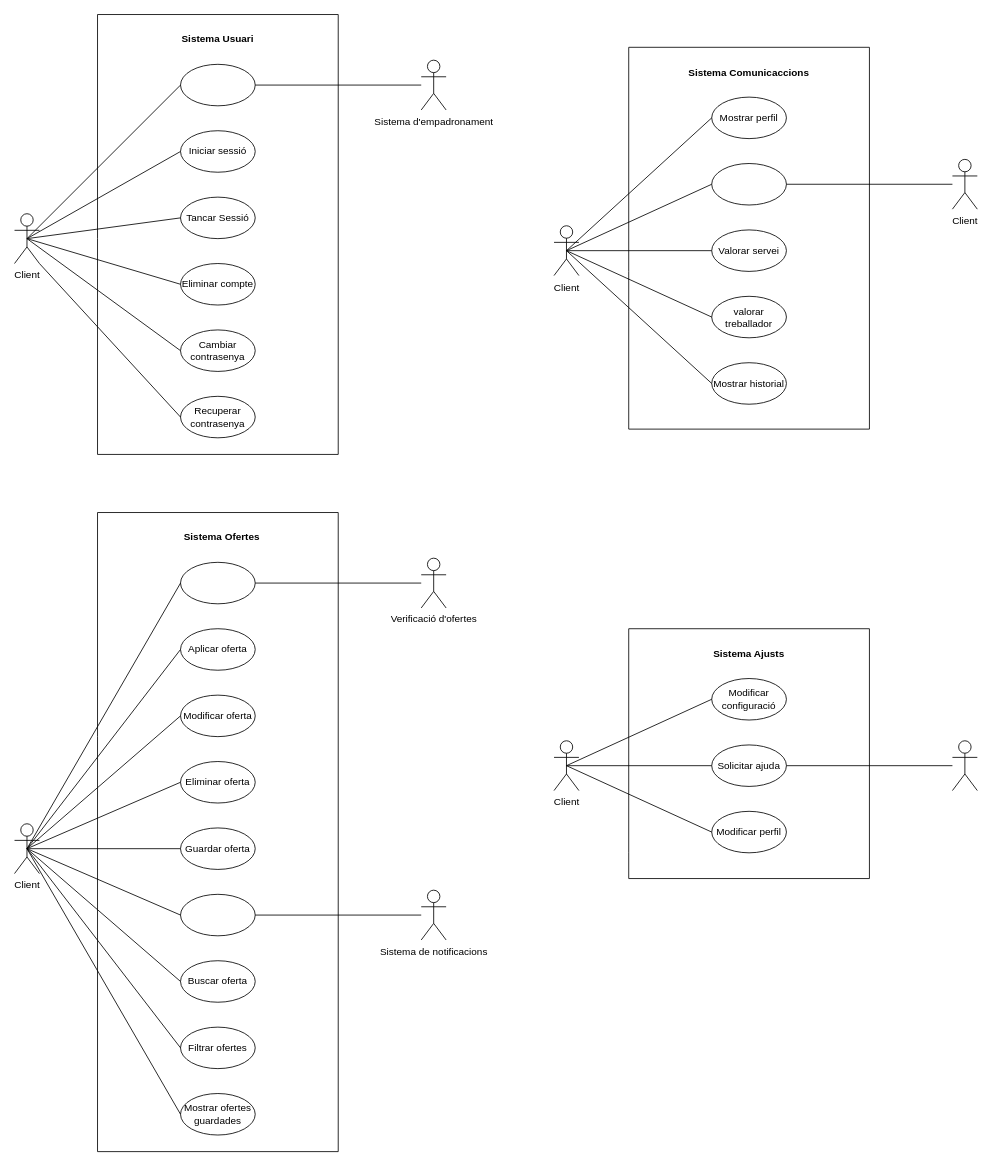
Some shapes in this 1007 by 1167 pixel diagram are drawn without their labels. Here are the shapes that lost their labels. From the top down, the centre of each, then its label:
At [217,84]: "Crear Usuari".
At [748,184]: "Enviar missatge".
At [217,582]: "Crear oferta".
At [964,765]: "Suport client".
At [217,914]: "Notificar oferta".
